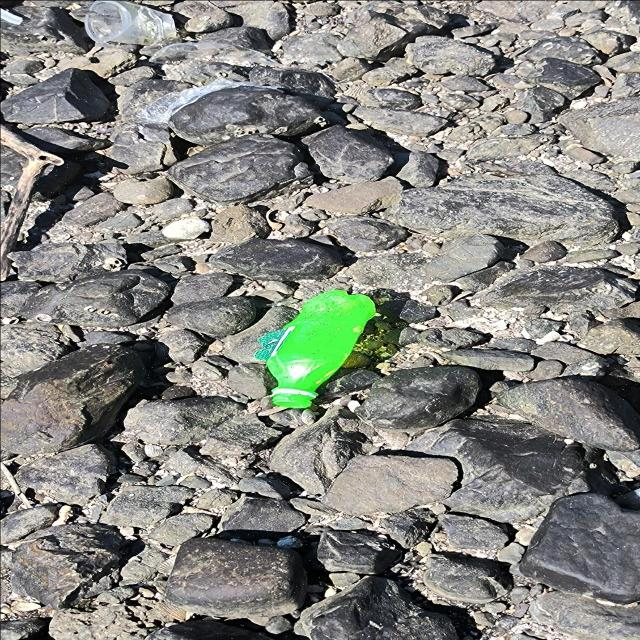plastic_waste: (266, 290, 378, 410)
